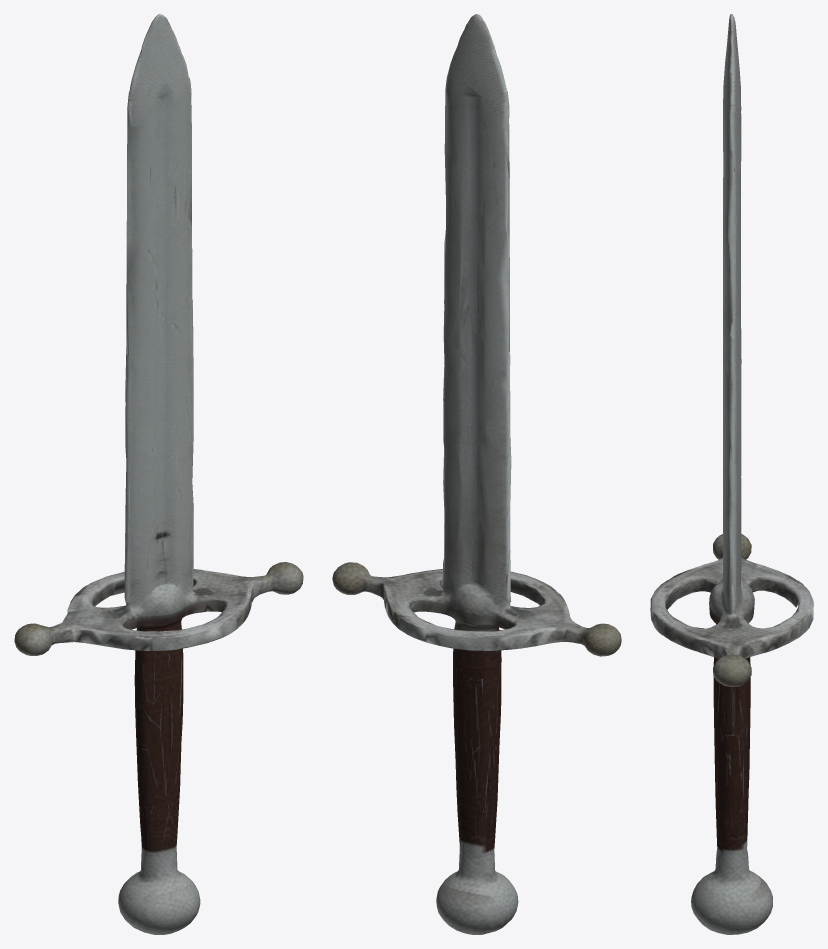
The model's file is wpn_dagger_iron.glb.
3 renders of one model, left to right at view 1: azimuth 30°, elevation 25°; view 2: azimuth 150°, elevation 25°; view 3: azimuth 270°, elevation 25°, orthographic.
Visible parts, largest first — view 1: wpn_dagger_iron; view 2: wpn_dagger_iron; view 3: wpn_dagger_iron.
Part boxes in pixels (left/top/right/bottom): wpn_dagger_iron: left=14, top=14, right=303, bottom=934; wpn_dagger_iron: left=332, top=14, right=621, bottom=934; wpn_dagger_iron: left=650, top=14, right=813, bottom=934.
Size of the model in its own units: 0.1465 by 0.45 by 0.0727.
Materials: 1 (1 with a texture image).
